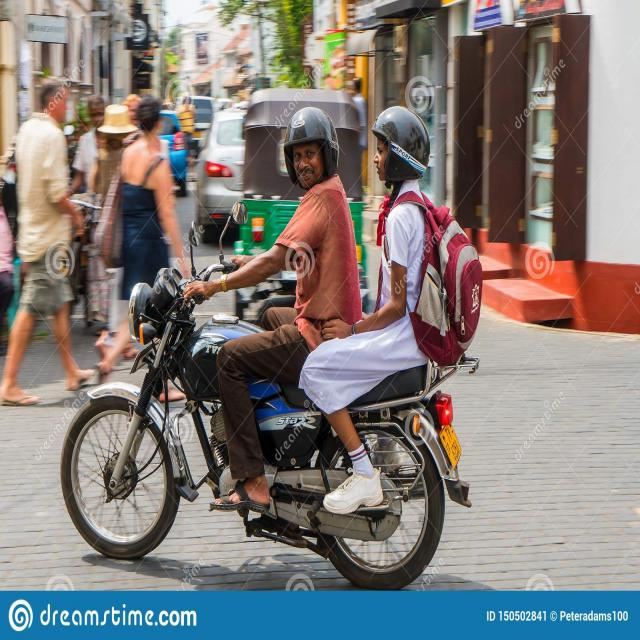With Helmet: (55, 98, 502, 592)
